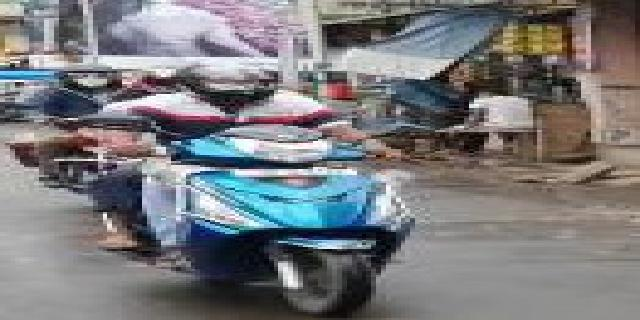Motorbike: (121, 43, 435, 318)
